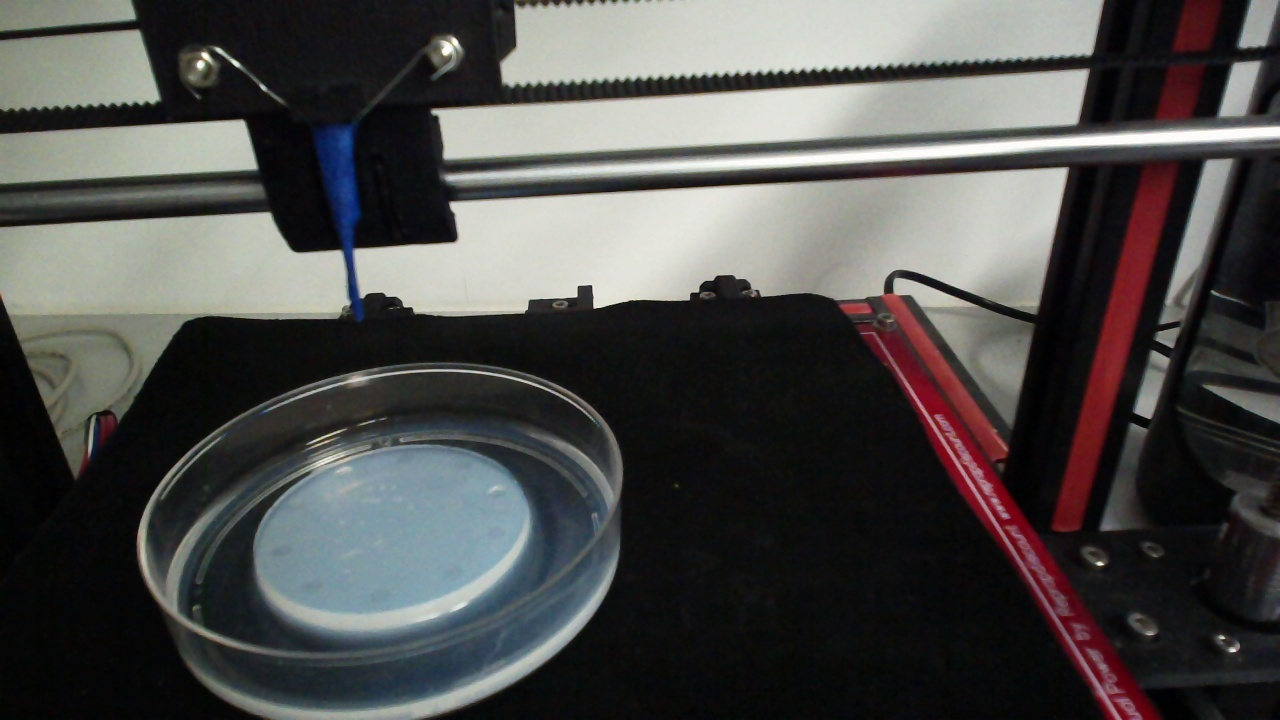groove: (269, 541, 292, 559), (300, 576, 324, 593), (442, 563, 463, 582), (366, 587, 390, 603), (485, 524, 509, 540), (332, 464, 354, 481), (393, 451, 416, 466), (485, 485, 509, 499), (284, 498, 307, 512), (451, 458, 473, 472)
needle: (313, 126, 362, 321)
